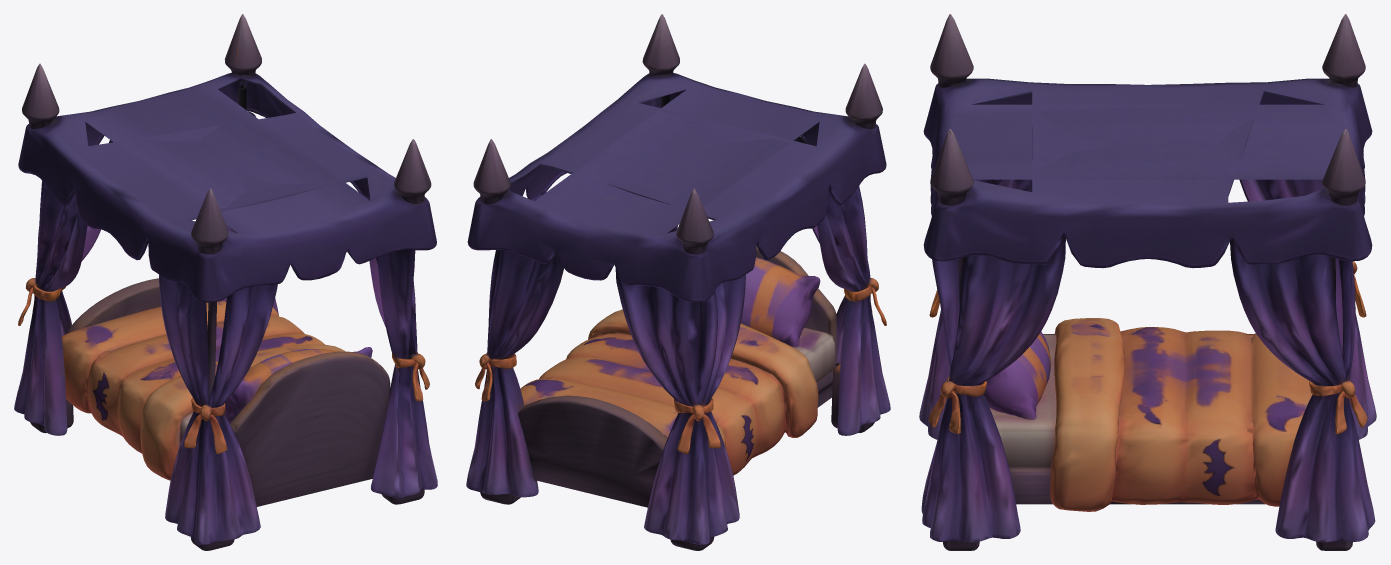
The model's file is S5_WitchBed_LOD0.fbx.
3 views of the same model, side by side, from view 1: azimuth 30°, elevation 25°; view 2: azimuth 150°, elevation 25°; view 3: azimuth 270°, elevation 25° (orthographic). The views are drawn at different scales.
Visible parts, largest first — view 1: S5_WitchBed_LOD0; view 2: S5_WitchBed_LOD0; view 3: S5_WitchBed_LOD0.
Part boxes in pixels (<box>): S5_WitchBed_LOD0: <box>14,14,437,550</box>; S5_WitchBed_LOD0: <box>466,14,890,550</box>; S5_WitchBed_LOD0: <box>919,14,1376,550</box>.
Size of the model in its own units: 1.39 by 1.9 by 1.88.
1 material, 1 textured.
